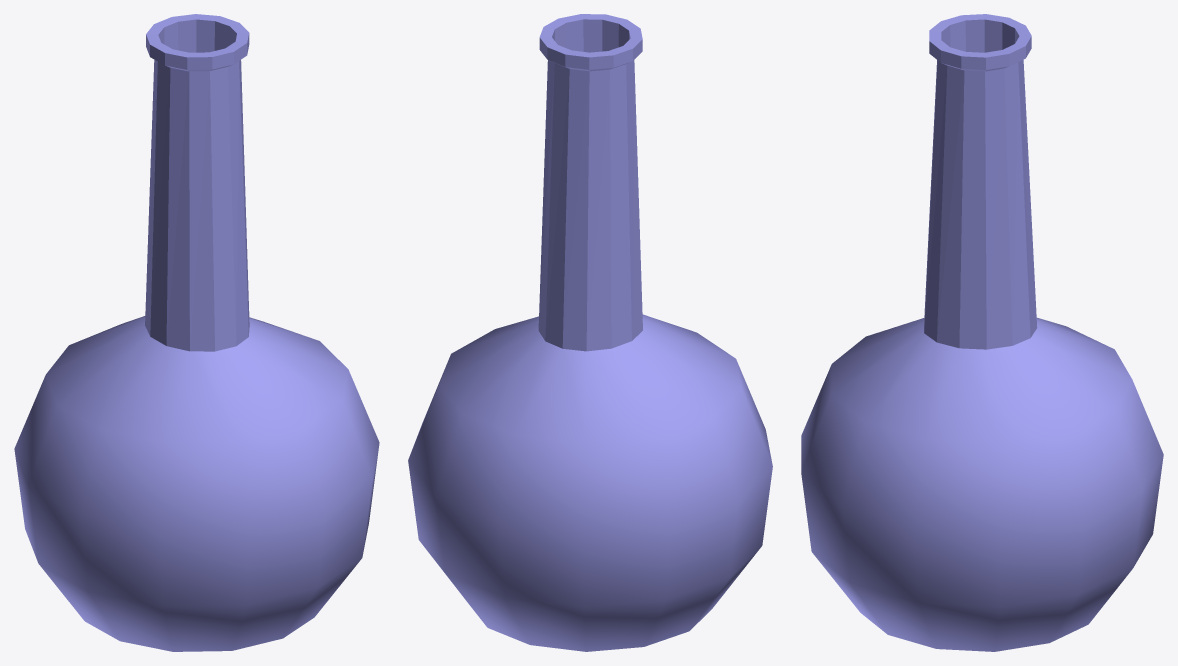
The model's file is botella1.glb.
3 views of the same model, side by side, from view 1: azimuth 30°, elevation 25°; view 2: azimuth 150°, elevation 25°; view 3: azimuth 270°, elevation 25° (orthographic).
Parts seen in each view (by area): view 1: Sphere001; view 2: Sphere001; view 3: Sphere001.
Boxes of the visible parts, x1=… form: Sphere001: x1=14, y1=14, x2=379, y2=651; Sphere001: x1=408, y1=14, x2=772, y2=651; Sphere001: x1=801, y1=14, x2=1163, y2=651.
Bounding box in the file's own units: 0.1613 × 0.2799 × 0.1601.
